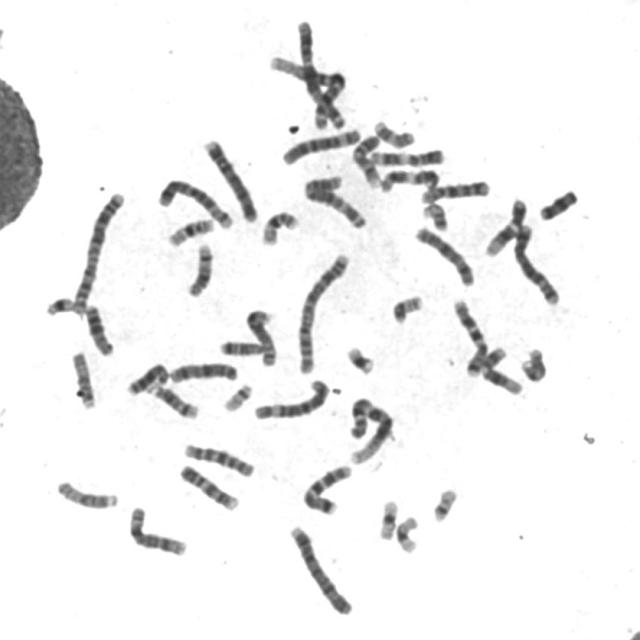A1: (264, 49, 348, 130), (344, 391, 397, 466)
A2: (67, 187, 126, 316), (292, 248, 351, 375)
A3: (291, 14, 347, 131), (299, 169, 369, 231)
B4: (285, 520, 354, 617), (198, 133, 260, 225)
B5: (152, 173, 236, 231), (508, 219, 563, 307)
C10: (179, 438, 257, 479), (416, 176, 492, 205)
C11: (375, 164, 442, 195), (365, 143, 447, 168)
C12: (481, 193, 529, 258), (476, 341, 526, 397)
C6: (249, 374, 331, 422), (277, 122, 363, 167)
C7: (448, 294, 490, 378), (298, 459, 354, 517)
C8: (124, 502, 189, 558), (241, 304, 280, 368)
C9: (175, 460, 241, 513), (348, 129, 383, 188)
D13: (80, 299, 116, 358), (122, 357, 172, 397)
D14: (143, 378, 201, 421), (182, 238, 215, 298)
D15: (51, 475, 120, 511), (66, 346, 98, 411)
E16: (162, 213, 216, 248), (256, 206, 301, 247)
E17: (368, 114, 417, 150), (517, 343, 549, 384)
E18: (534, 184, 580, 222), (215, 336, 266, 358)
F19: (390, 510, 421, 556), (374, 494, 401, 542)
F20: (386, 290, 425, 326), (418, 198, 450, 232)
G21: (342, 340, 378, 376), (42, 291, 78, 318)
G22: (428, 483, 460, 524), (218, 379, 254, 414)
X: (410, 222, 477, 288), (165, 357, 240, 384)
